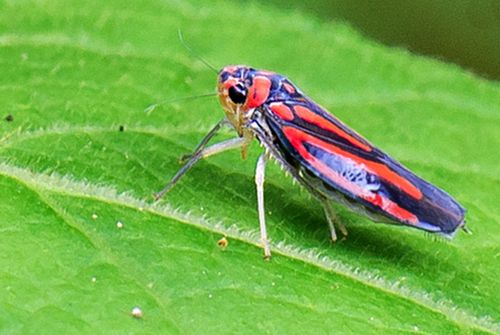Cicadellidae: (152, 64, 468, 258)
